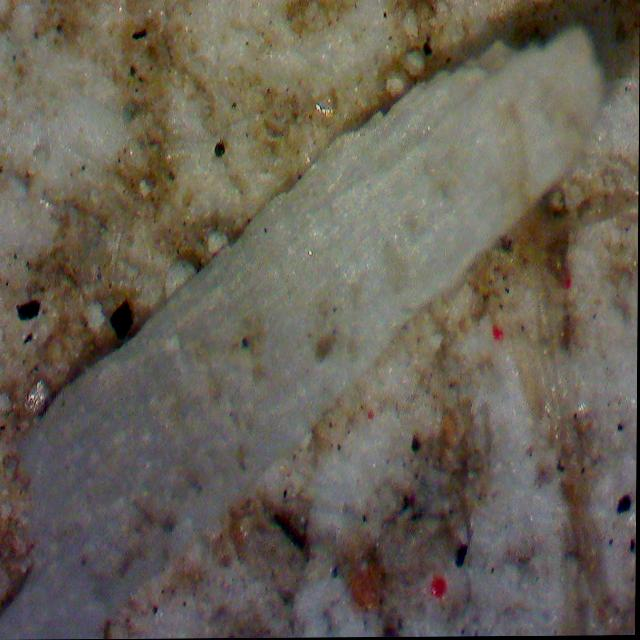microplastic: (0, 22, 606, 640)
